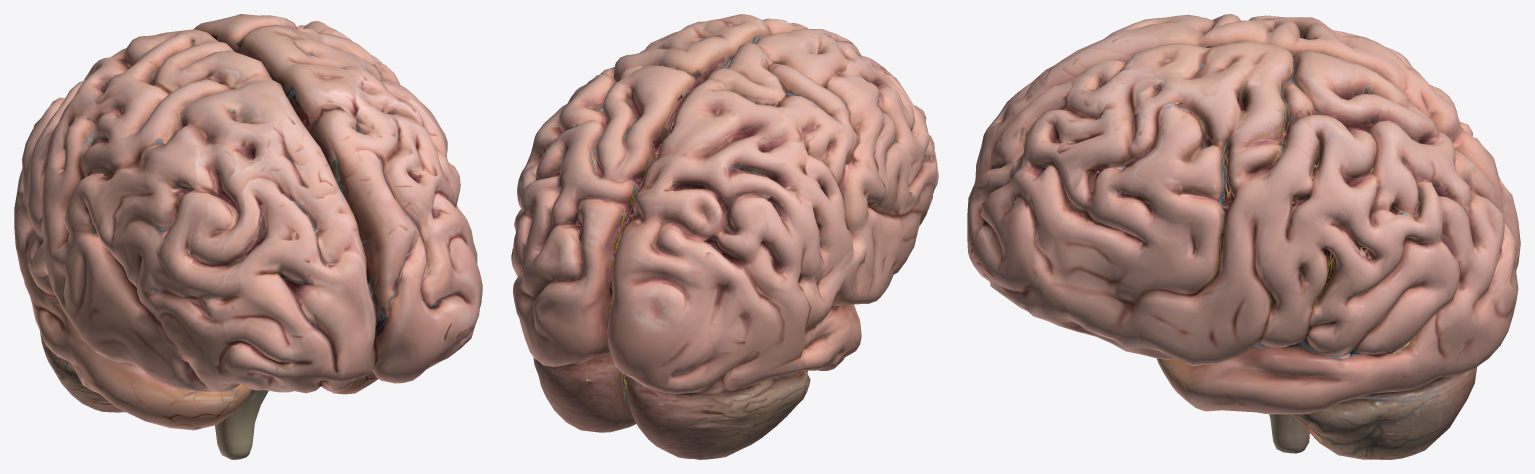
The model's file is nao.fbx.
3 renders of one model, left to right at view 1: azimuth 30°, elevation 25°; view 2: azimuth 150°, elevation 25°; view 3: azimuth 270°, elevation 25°, orthographic. The views are drawn at different scales.
Parts seen in each view (by area): view 1: input; view 2: input; view 3: input.
Part boxes in pixels (bbox=[...]): input: bbox=[14, 14, 482, 459]; input: bbox=[511, 14, 938, 459]; input: bbox=[967, 14, 1520, 459].
Bounding box in the file's own units: 145 × 166 × 200.
1 material, 1 textured.
